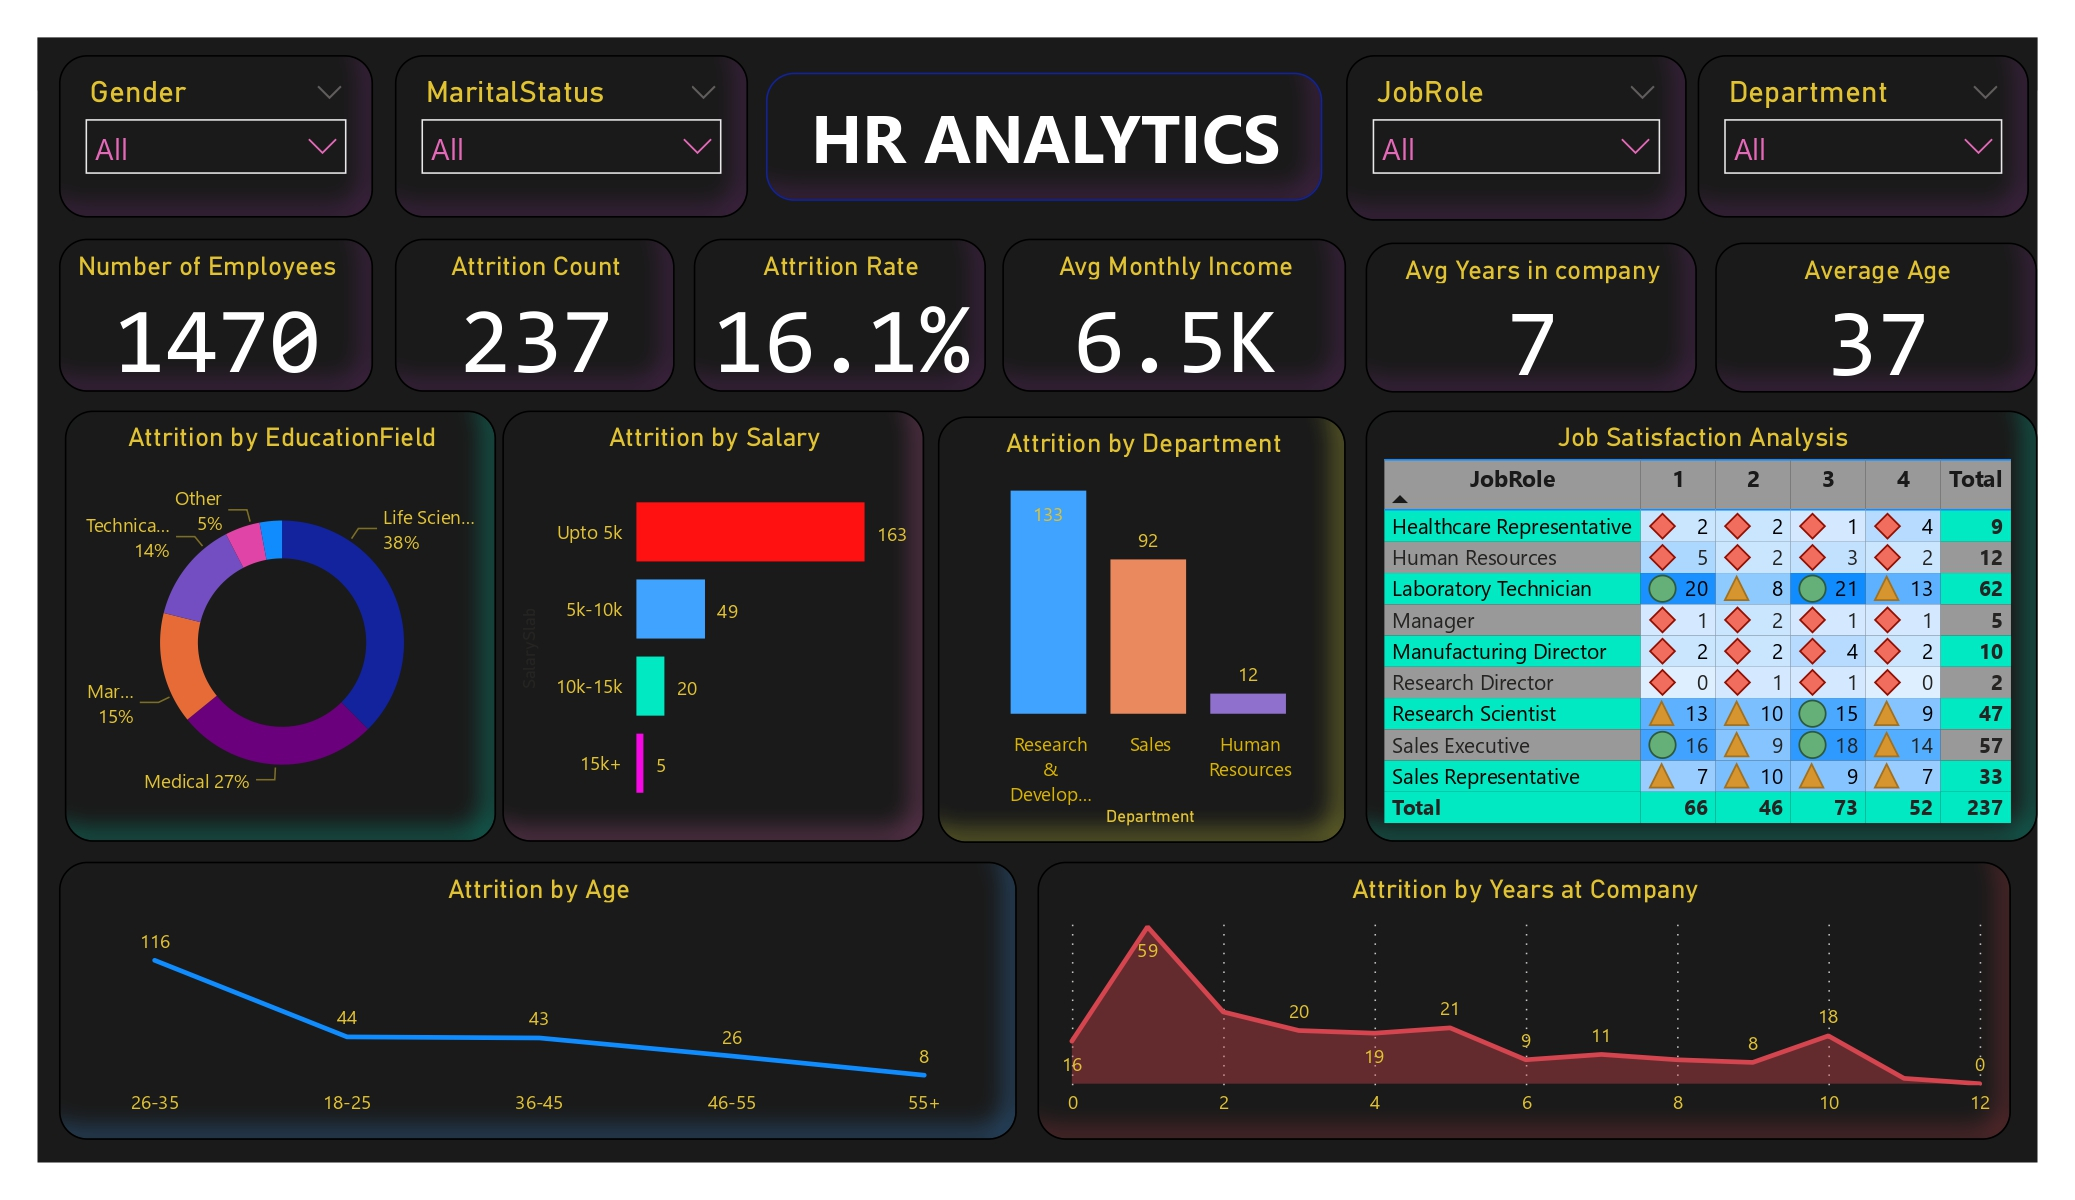

What the dashboard file says about the page in this screenshot:
{"tool":"powerbi","page":{"name":"HR Analytics","canvas":[1280,720],"ordinal":0},"visuals":[{"type":"card","title":"Number of Employees","fields":{"Values":["CountNonNull(HR_Analytics.EmpID)"]},"box":[13.9,128.8,200.9,98.4],"z":0},{"type":"textbox","box":[466.8,22.2,356,81.7],"z":1000},{"type":"card","title":"Attrition  Count","fields":{"Values":["Sum(HR_Analytics.Attrition Count)"]},"box":[228.6,128.8,178.7,98.4],"z":2000},{"type":"card","title":"Average Age","fields":{"Values":["Avg(HR_Analytics.Age)"]},"box":[1073.6,131.6,206.4,95.6],"z":3000},{"type":"card","title":"Avg Monthly Income","fields":{"Values":["Avg(HR_Analytics.MonthlyIncome)"]},"box":[617.8,128.8,220.3,98.4],"z":4000},{"type":"card","title":"Attrition Rate","fields":{"Values":["HR_Analytics.At Rate"]},"box":[419.7,128.8,187,98.4],"z":5000},{"type":"card","title":"Avg Years in company","fields":{"Values":["Avg(HR_Analytics.YearsAtCompany)"]},"box":[850.6,131.6,211.9,95.6],"z":6000},{"type":"slicer","title":"Avg Years in company","fields":{"Values":["HR_Analytics.JobRole"]},"box":[837.5,11.2,217.5,106.2],"z":7000},{"type":"slicer","title":"Avg Years in company","fields":{"Values":["HR_Analytics.Gender"]},"box":[13.9,11.1,200.9,103.9],"z":8000},{"type":"slicer","title":"Avg Years in company","fields":{"Values":["HR_Analytics.Department"]},"box":[1062.5,11.1,211.9,103.9],"z":9000},{"type":"slicer","title":"Avg Years in company","fields":{"Values":["HR_Analytics.MaritalStatus"]},"box":[228.6,11.1,225.8,103.9],"z":10000},{"type":"donutChart","title":"Attrition by EducationField","fields":{"Category":["HR_Analytics.EducationField"],"Y":["Sum(HR_Analytics.Attrition Count)"]},"box":[17.5,238.8,276.2,276.2],"z":11000},{"type":"columnChart","title":"Attrition by Department","fields":{"Category":["HR_Analytics.Department"],"Y":["Sum(HR_Analytics.Attrition Count)"]},"box":[576.2,242.5,261.2,272.5],"z":12000},{"type":"pivotTable","title":"Job Satisfaction Analysis","fields":{"Values":["Sum(HR_Analytics.Attrition Count)"],"Columns":["HR_Analytics.JobSatisfaction"],"Rows":["HR_Analytics.JobRole"]},"box":[850,238.8,430,276.2],"z":13000},{"type":"clusteredBarChart","title":"Attrition by Salary","fields":{"Category":["HR_Analytics.SalarySlab"],"Y":["Sum(HR_Analytics.Attrition Count)"]},"box":[297.5,238.8,270,276.2],"z":14000},{"type":"lineChart","title":"Attrition by Age","fields":{"Y":["Sum(HR_Analytics.Attrition Count)"],"Category":["HR_Analytics.AgeGroup"]},"box":[13.8,527.5,612.5,177.5],"z":15000},{"type":"areaChart","title":"Attrition by Years at Company","fields":{"Y":["Sum(HR_Analytics.Attrition Count)"],"Category":["HR_Analytics.YearsAtCompany"]},"box":[640,527.5,622.5,177.5],"z":16000}]}

Visuals, with their boxes on the page's 1280x720 design canvas (x1, y1, x2, y2). These are canvas units, not pixel positions in the 2075x1200 screenshot, which may show the page scaled, cropped or inside an application window:
"Number of Employees" card: [left=14, top=129, right=215, bottom=227]
textbox: [left=467, top=22, right=823, bottom=104]
"Attrition  Count" card: [left=229, top=129, right=407, bottom=227]
"Average Age" card: [left=1074, top=132, right=1280, bottom=227]
"Avg Monthly Income" card: [left=618, top=129, right=838, bottom=227]
"Attrition Rate" card: [left=420, top=129, right=607, bottom=227]
"Avg Years in company" card: [left=851, top=132, right=1062, bottom=227]
"Avg Years in company" slicer: [left=838, top=11, right=1055, bottom=117]
"Avg Years in company" slicer: [left=14, top=11, right=215, bottom=115]
"Avg Years in company" slicer: [left=1062, top=11, right=1274, bottom=115]
"Avg Years in company" slicer: [left=229, top=11, right=454, bottom=115]
"Attrition by EducationField" donutChart: [left=18, top=239, right=294, bottom=515]
"Attrition by Department" columnChart: [left=576, top=242, right=837, bottom=515]
"Job Satisfaction Analysis" pivotTable: [left=850, top=239, right=1280, bottom=515]
"Attrition by Salary" clusteredBarChart: [left=298, top=239, right=568, bottom=515]
"Attrition by Age" lineChart: [left=14, top=528, right=626, bottom=705]
"Attrition by Years at Company" areaChart: [left=640, top=528, right=1262, bottom=705]
